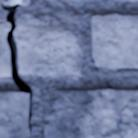brick: (43, 89, 137, 137), (91, 14, 137, 67), (0, 91, 29, 137), (0, 0, 29, 4), (75, 0, 99, 1)
broken_brick: (15, 19, 80, 76), (0, 21, 10, 77)
crack: (0, 2, 33, 135)
